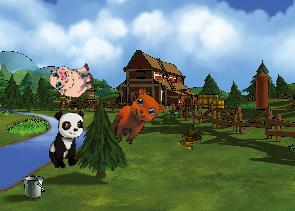bear: (106, 83, 169, 153)
panda: (47, 108, 86, 171)
pig: (46, 55, 98, 105)
